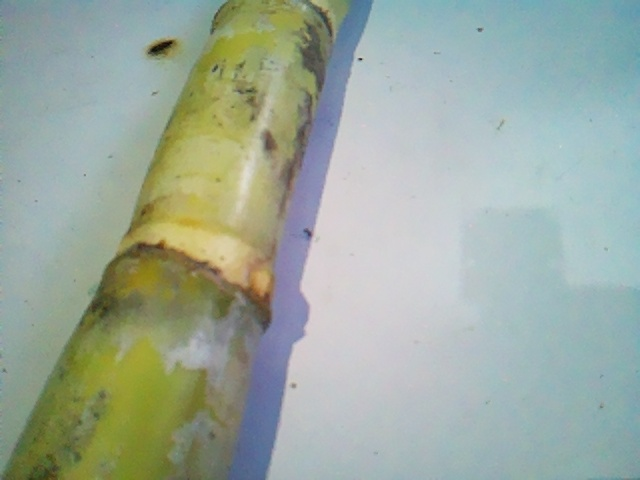Good Sugarcane: (0, 5, 350, 480)
Node: (93, 204, 282, 336)
